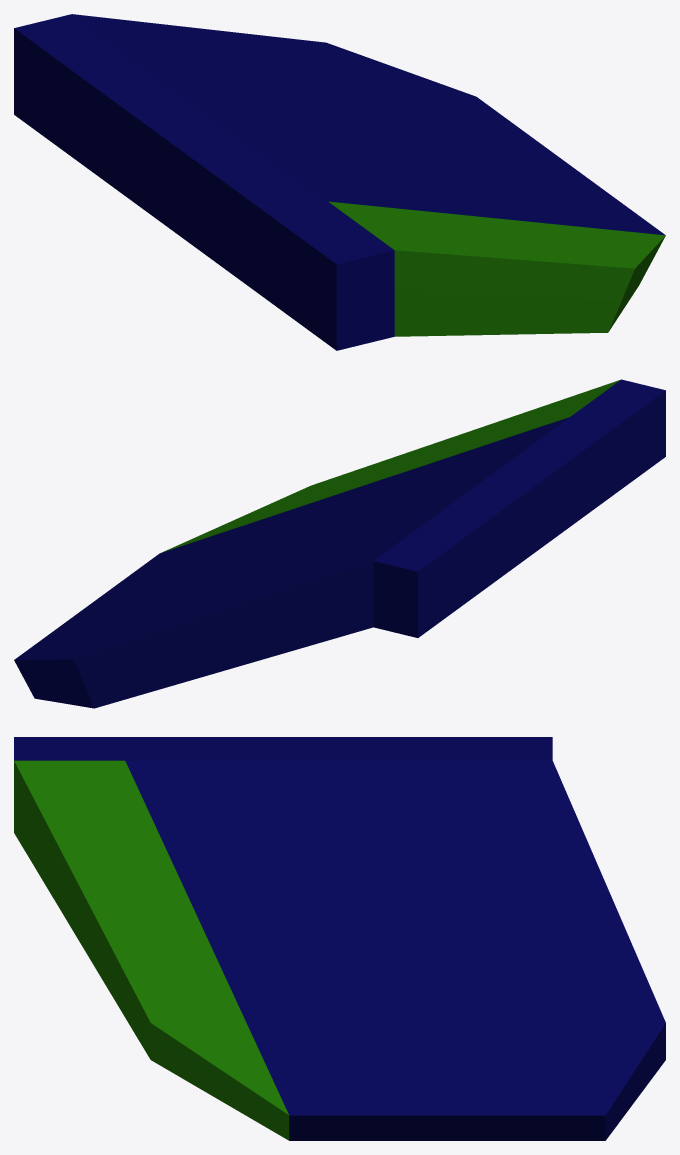
The model's file is Fusion_FinR_Part_Wipeout.fbx.
3 views of the same model, one above another, from view 1: azimuth 30°, elevation 25°; view 2: azimuth 150°, elevation 25°; view 3: azimuth 270°, elevation 25° (orthographic). The views are drawn at different scales.
Parts seen in each view (by area): view 1: Fusion_FinR; view 2: Fusion_FinR; view 3: Fusion_FinR.
Boxes of the visible parts, left/top/right/bottom form: Fusion_FinR: left=14, top=14, right=665, bottom=350; Fusion_FinR: left=14, top=379, right=665, bottom=708; Fusion_FinR: left=14, top=737, right=665, bottom=1140.
Bounding box in the file's own units: 206 × 281 × 102.
